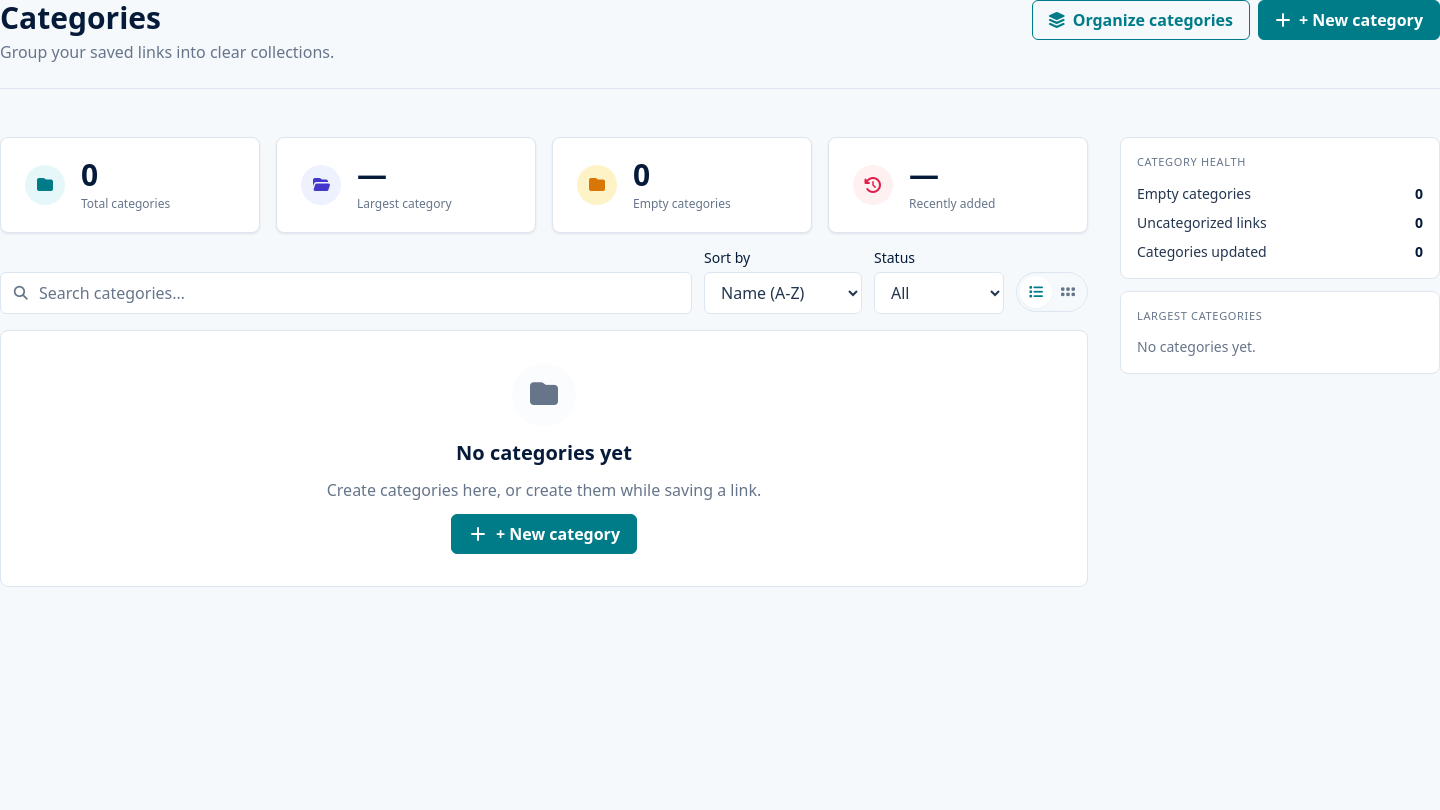
Test: CategoriesPageComponent UX states › creates a category when the New category form is submitted through the template
This screenshot has width=1440, height=810.
Click the 1st button "+ New category": coordinates (1349, 20) [1258,0,1439,40]
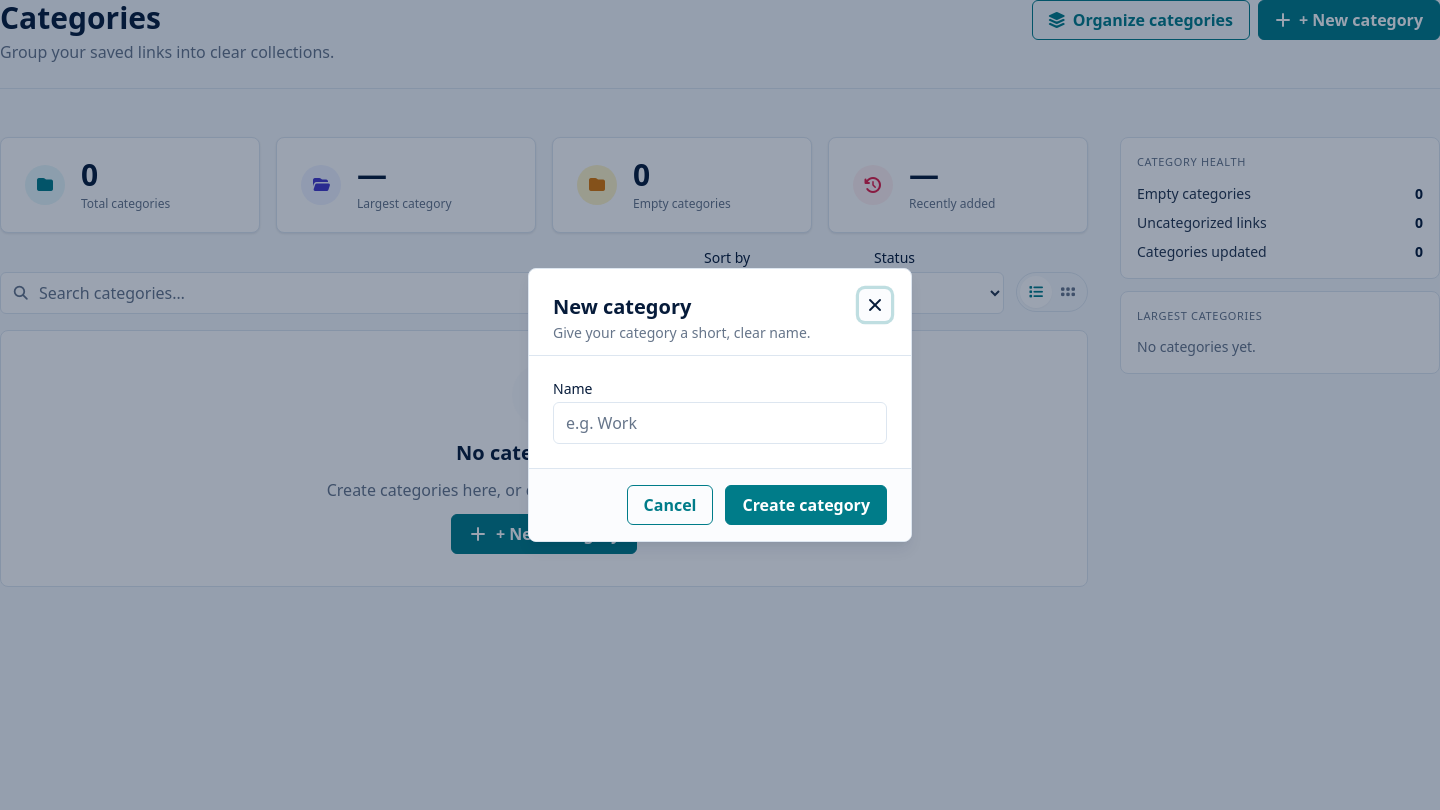
Check: the field with id "new-category-name" is shown
In the field with id "new-category-name": coordinates (720, 423) [553,402,887,444], type "Work"
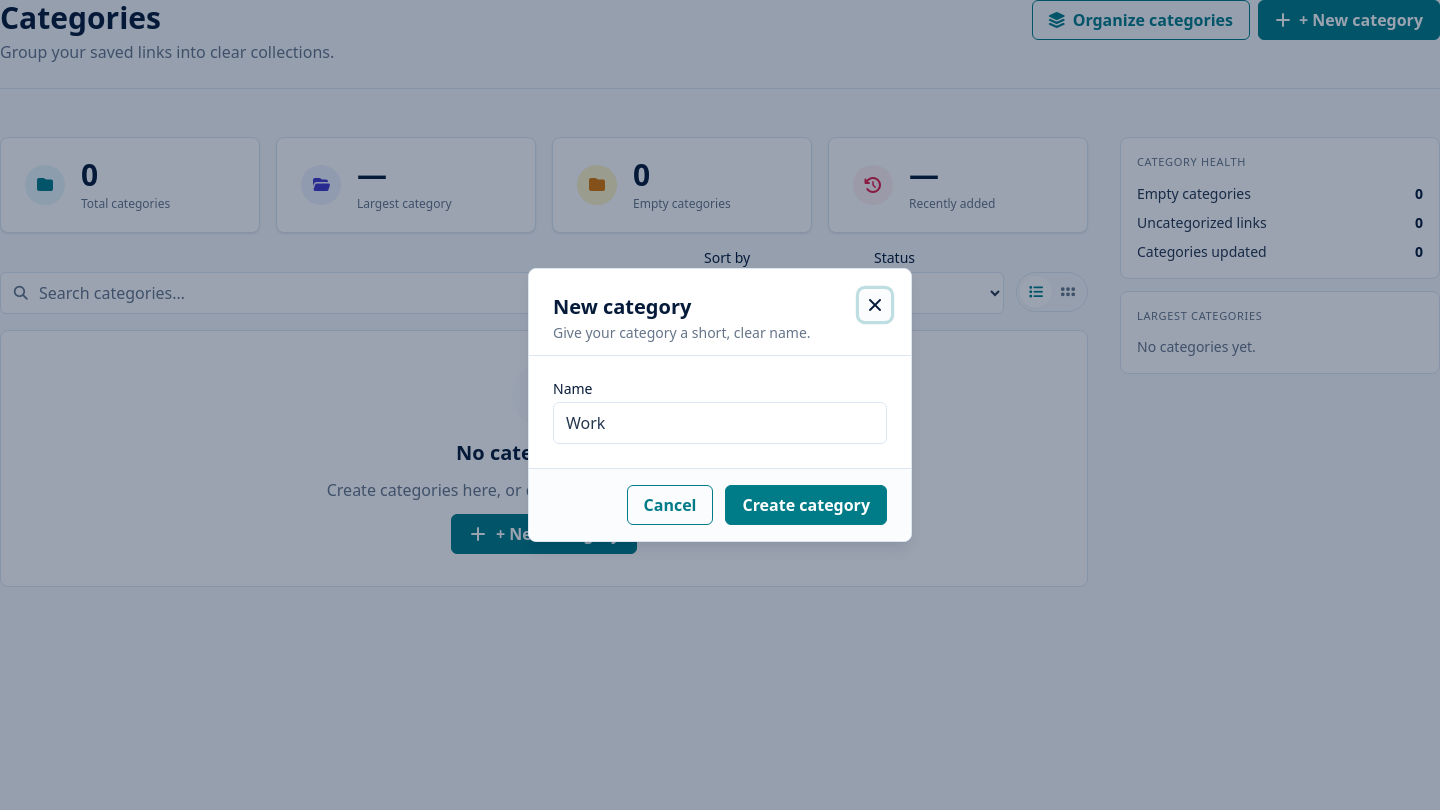
Check: the form is shown
Submit the form, box [529,356,911,541]
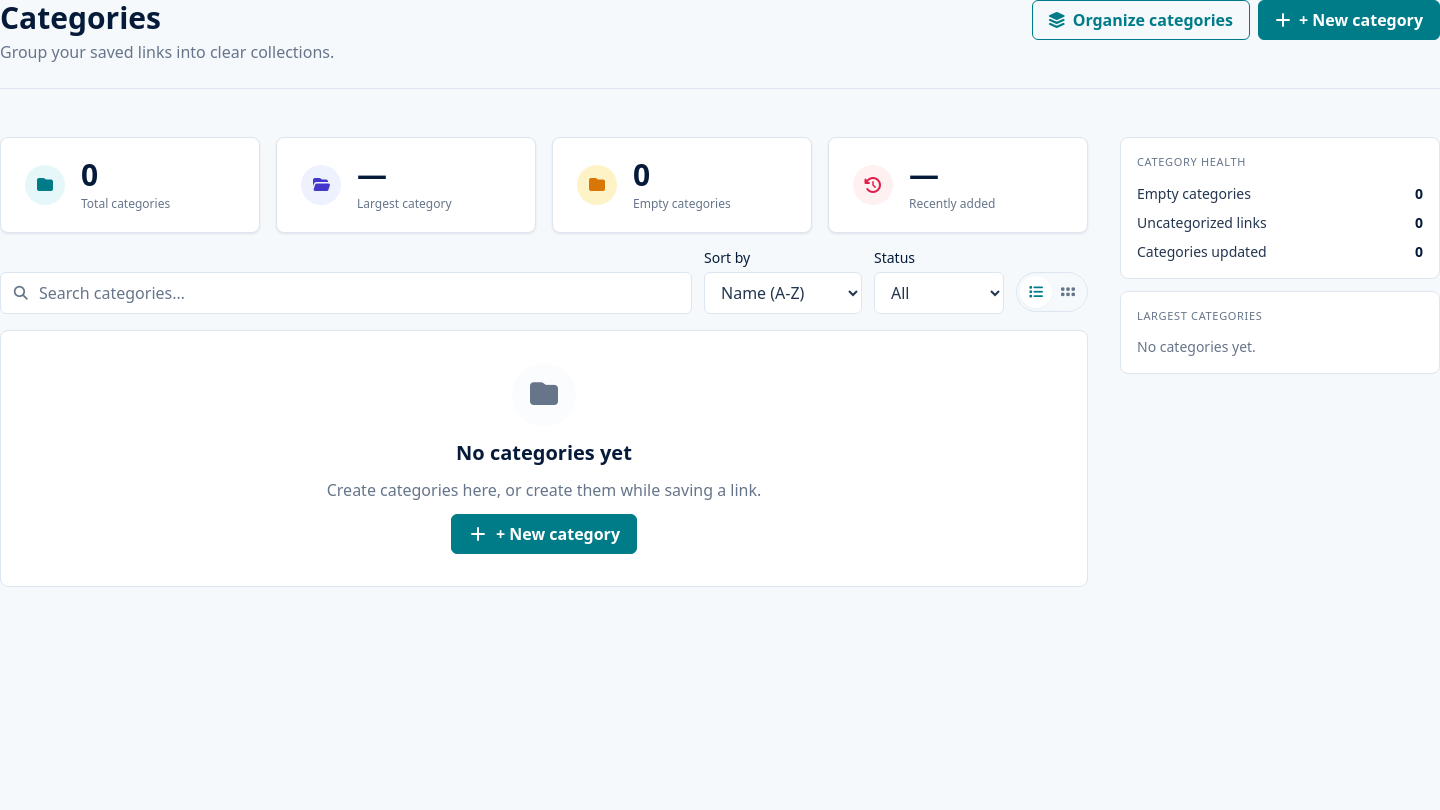
Check: the label with id "new-category-name" is gone
